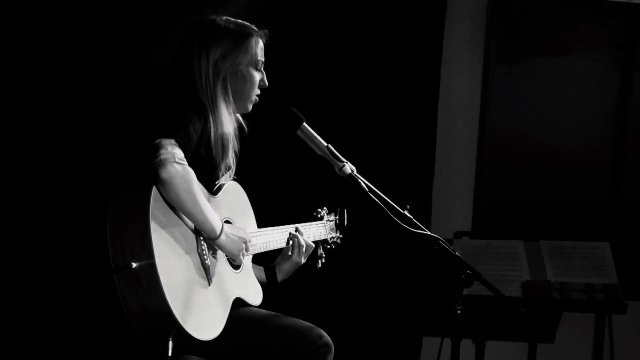person: (135, 0, 351, 352)
